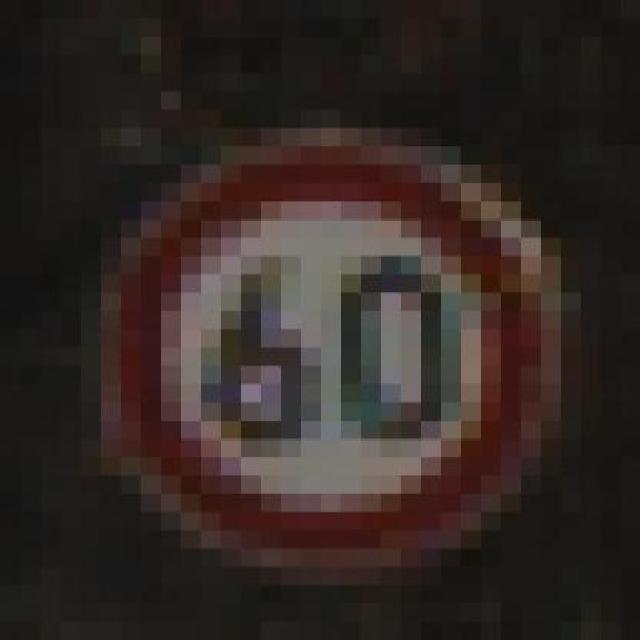forb_speed_over_60: (100, 136, 535, 550)
